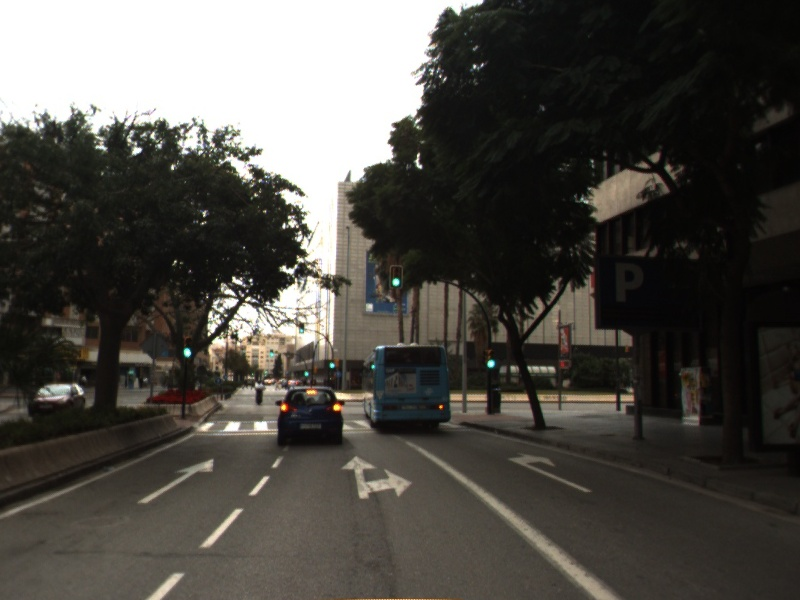RIGHT: (506, 451, 595, 494)
STRAIGHT: (136, 457, 216, 506)
STRAIGHT_RIGHT: (338, 453, 414, 501)
